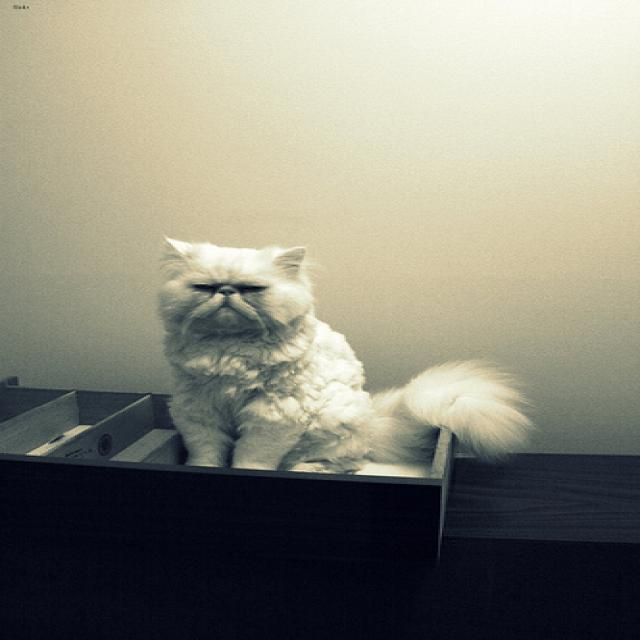Persian: (161, 235, 302, 324)
